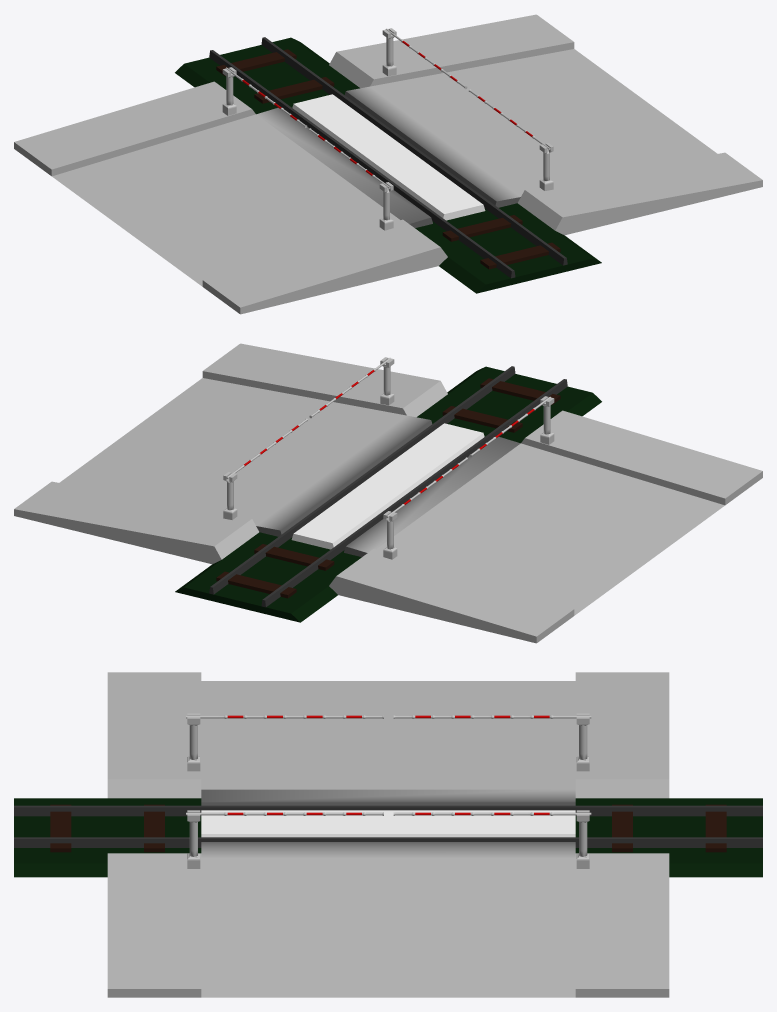
The model's file is SingleTrack_Crossing.FBX.
The picture shows the model from 3 angles, top to bottom: view 1: azimuth 30°, elevation 25°; view 2: azimuth 150°, elevation 25°; view 3: azimuth 270°, elevation 25°; orthographic projection. The views are drawn at different scales.
Parts seen in each view (by area): view 1: SingleTrack_Ground_Road, SingleTrack_Ground_Track, SingleTrack_Island, SingleTrack_Rail_1, SingleTrack_Rail_2, SingleTrack_Sleeper_4, SingleTrack_Sleeper_3, SingleTrack_Sleeper_2, SingleTrack_Sleeper_1; view 2: SingleTrack_Ground_Road, SingleTrack_Ground_Track, SingleTrack_Island, SingleTrack_Rail_1, SingleTrack_Rail_2, SingleTrack_Sleeper_1, SingleTrack_Sleeper_2, SingleTrack_Sleeper_3, SingleTrack_Sleeper_4; view 3: SingleTrack_Ground_Road, SingleTrack_Ground_Track, SingleTrack_Island, SingleTrack_Rail_2, SingleTrack_Rail_1, SingleTrack_Sleeper_1, SingleTrack_Sleeper_4, SingleTrack_Sleeper_2, SingleTrack_Sleeper_3, SingleTrack_Barrier_2, SingleTrack_Barrier_4, SingleTrack_Barrier_1 (+5 smaller).
Boxes of the visible parts, x1=… form: SingleTrack_Ground_Road: x1=14, y1=14, x2=762, y2=314; SingleTrack_Ground_Track: x1=175, y1=37, x2=601, y2=293; SingleTrack_Island: x1=292, y1=94, x2=485, y2=220; SingleTrack_Rail_1: x1=261, y1=37, x2=567, y2=265; SingleTrack_Rail_2: x1=209, y1=50, x2=515, y2=278; SingleTrack_Sleeper_4: x1=480, y1=242, x2=560, y2=269; SingleTrack_Sleeper_3: x1=442, y1=215, x2=522, y2=241; SingleTrack_Sleeper_2: x1=254, y1=77, x2=334, y2=103; SingleTrack_Sleeper_1: x1=216, y1=49, x2=296, y2=75; SingleTrack_Ground_Road: x1=14, y1=343, x2=762, y2=643; SingleTrack_Ground_Track: x1=175, y1=366, x2=601, y2=622; SingleTrack_Island: x1=291, y1=423, x2=484, y2=549; SingleTrack_Rail_1: x1=209, y1=366, x2=515, y2=594; SingleTrack_Rail_2: x1=261, y1=379, x2=567, y2=607; SingleTrack_Sleeper_1: x1=216, y1=571, x2=296, y2=598; SingleTrack_Sleeper_2: x1=254, y1=544, x2=334, y2=570; SingleTrack_Sleeper_3: x1=442, y1=406, x2=522, y2=432; SingleTrack_Sleeper_4: x1=480, y1=378, x2=560, y2=404; SingleTrack_Ground_Road: x1=107, y1=672, x2=669, y2=997; SingleTrack_Ground_Track: x1=14, y1=798, x2=762, y2=877; SingleTrack_Island: x1=201, y1=810, x2=575, y2=837; SingleTrack_Rail_2: x1=14, y1=805, x2=762, y2=816; SingleTrack_Rail_1: x1=14, y1=837, x2=762, y2=847; SingleTrack_Sleeper_1: x1=705, y1=804, x2=726, y2=852; SingleTrack_Sleeper_4: x1=50, y1=804, x2=71, y2=852; SingleTrack_Sleeper_2: x1=612, y1=804, x2=632, y2=852; SingleTrack_Sleeper_3: x1=144, y1=804, x2=164, y2=852; SingleTrack_Barrier_2: x1=393, y1=715, x2=591, y2=718; SingleTrack_Barrier_4: x1=393, y1=812, x2=591, y2=815; SingleTrack_Barrier_1: x1=186, y1=715, x2=383, y2=718.
Bounding box in the file's own units: 800 × 800 × 88.65.
